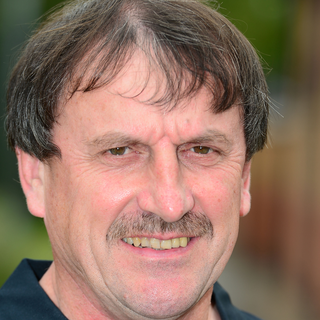eye: (97, 141, 148, 164), (178, 140, 227, 163)
